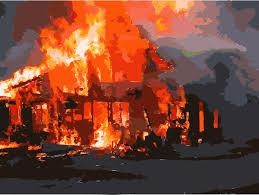fire: (8, 3, 186, 155), (148, 0, 197, 33)
